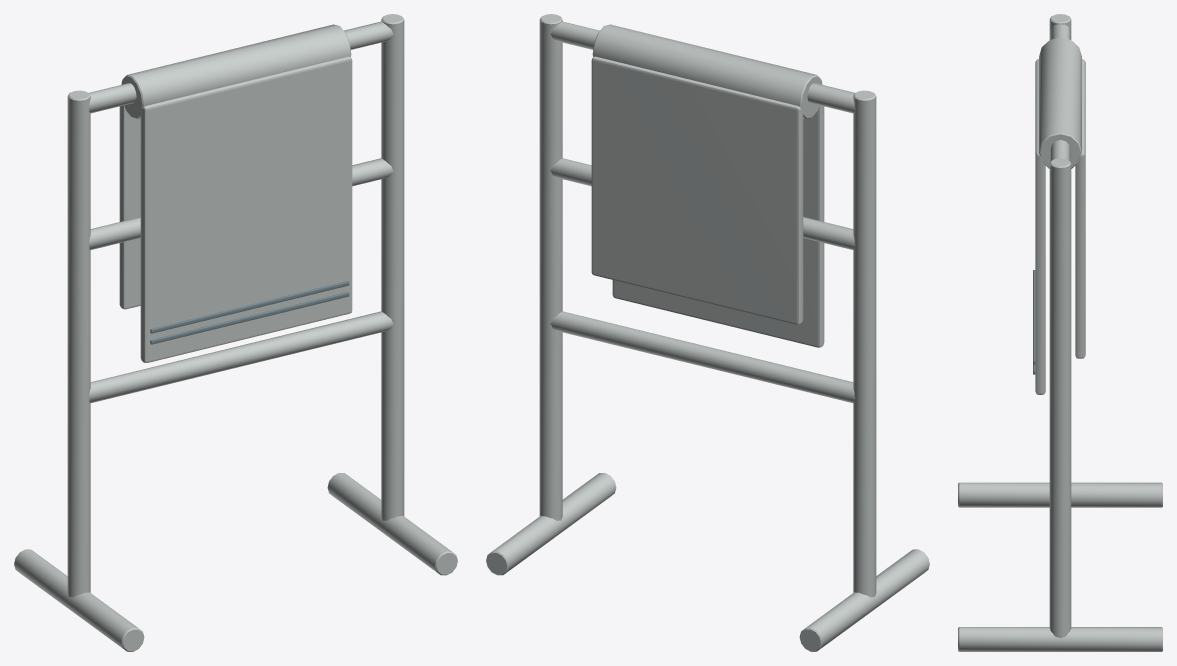
Rendered from towel-rack.glb.
3 renders of one model, left to right at view 1: azimuth 30°, elevation 25°; view 2: azimuth 150°, elevation 25°; view 3: azimuth 270°, elevation 25°, orthographic. The views are drawn at different scales.
Visible parts, largest first — view 1: draped_towel_front, upright, upright.001, folded_towel_top, towel_rail, draped_towel_back, foot.001, foot, towel_rail.001, towel_rail.002, woven_border.001, woven_border; view 2: draped_towel_back, upright, upright.001, draped_towel_front, folded_towel_top, towel_rail, foot.001, foot, towel_rail.001, towel_rail.002; view 3: upright.001, foot.001, folded_towel_top, foot, draped_towel_front, draped_towel_back, towel_rail.002.
Part boxes in pixels (x1,y1,x2,y2): draped_towel_front: (140, 56, 352, 362); upright: (67, 90, 90, 597); upright.001: (381, 14, 404, 520); folded_towel_top: (121, 24, 351, 119); towel_rail: (88, 311, 393, 402); draped_towel_back: (119, 105, 140, 309); foot.001: (327, 473, 457, 575); foot: (14, 549, 144, 651); towel_rail.001: (88, 158, 393, 249); towel_rail.002: (88, 21, 393, 113); woven_border.001: (150, 281, 349, 333); woven_border: (150, 292, 349, 344); draped_towel_back: (591, 56, 803, 324); upright: (853, 90, 876, 597); upright.001: (539, 14, 562, 520); draped_towel_front: (612, 105, 824, 347); folded_towel_top: (592, 24, 822, 119); towel_rail: (550, 311, 855, 402); foot.001: (486, 473, 616, 575); foot: (799, 549, 929, 651); towel_rail.001: (550, 158, 855, 249); towel_rail.002: (550, 21, 855, 113); upright.001: (1049, 158, 1071, 638); foot.001: (958, 627, 1162, 651); folded_towel_top: (1039, 37, 1081, 168); foot: (958, 482, 1162, 507); draped_towel_front: (1035, 59, 1045, 394); draped_towel_back: (1075, 59, 1085, 358); towel_rail.002: (1050, 24, 1070, 161).
Bounding box in the file's own units: 0.644 × 0.957 × 0.36.
